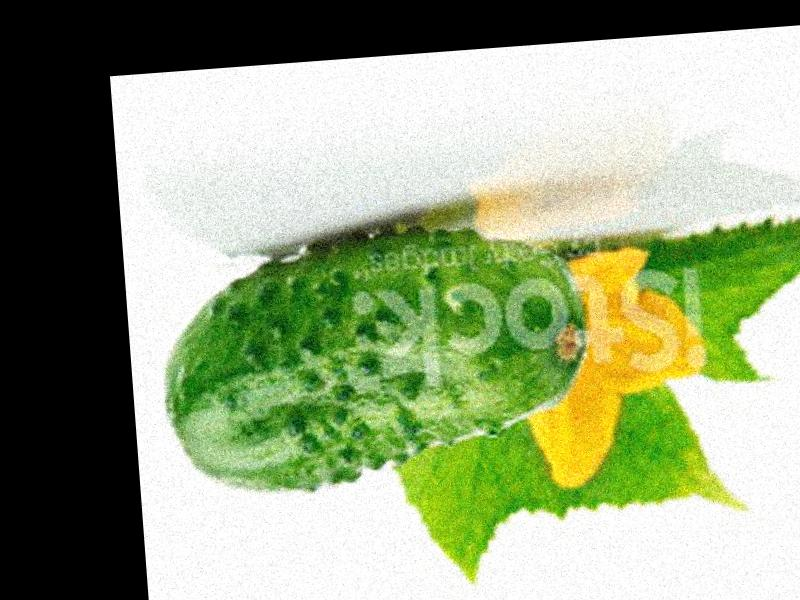Cucumber: (154, 219, 590, 500)
